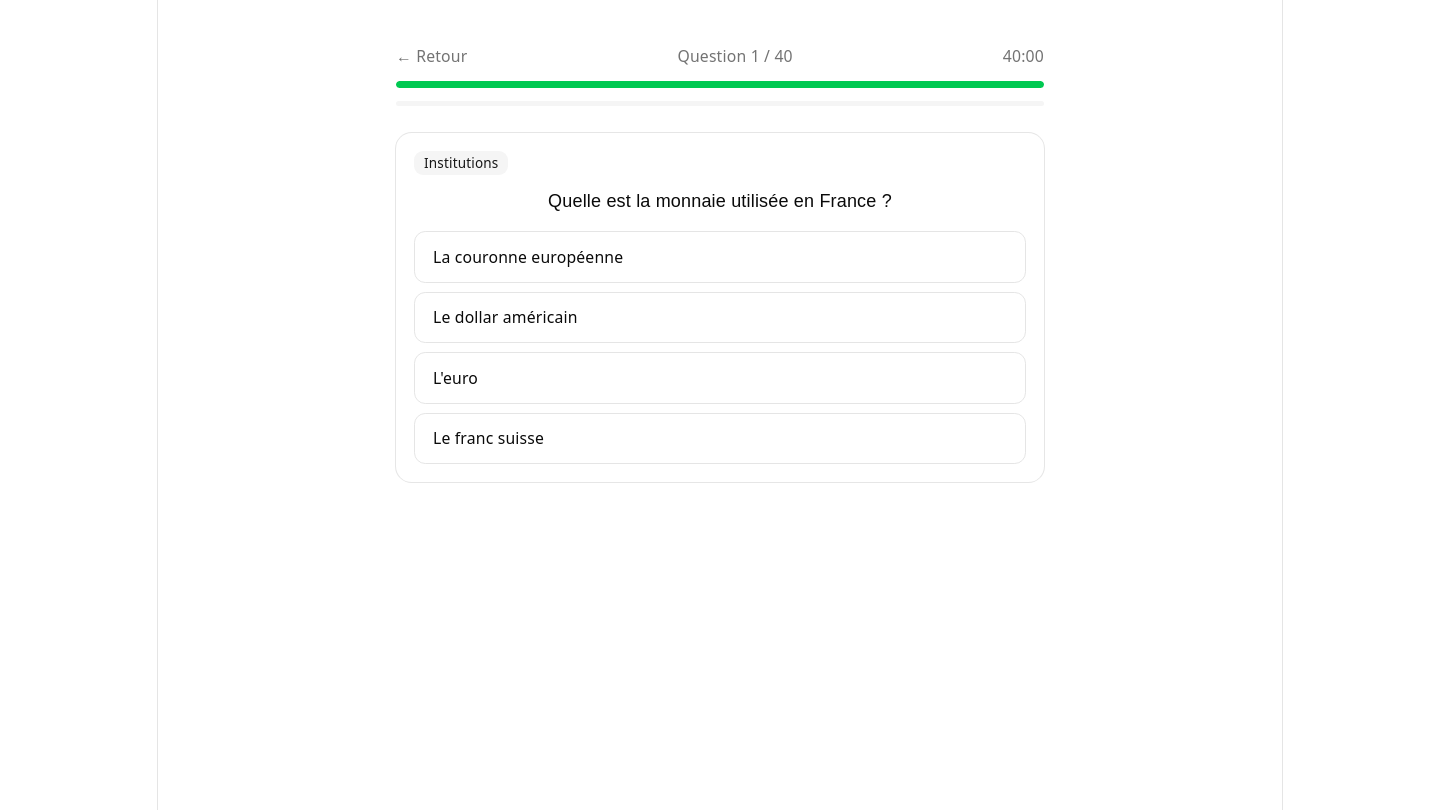
Scenario: Examen › le bouton Valider apparaît après sélection d'une réponse
Click the button "La couronne européenne". click: (528, 257)
box: [414,232,1026,283]
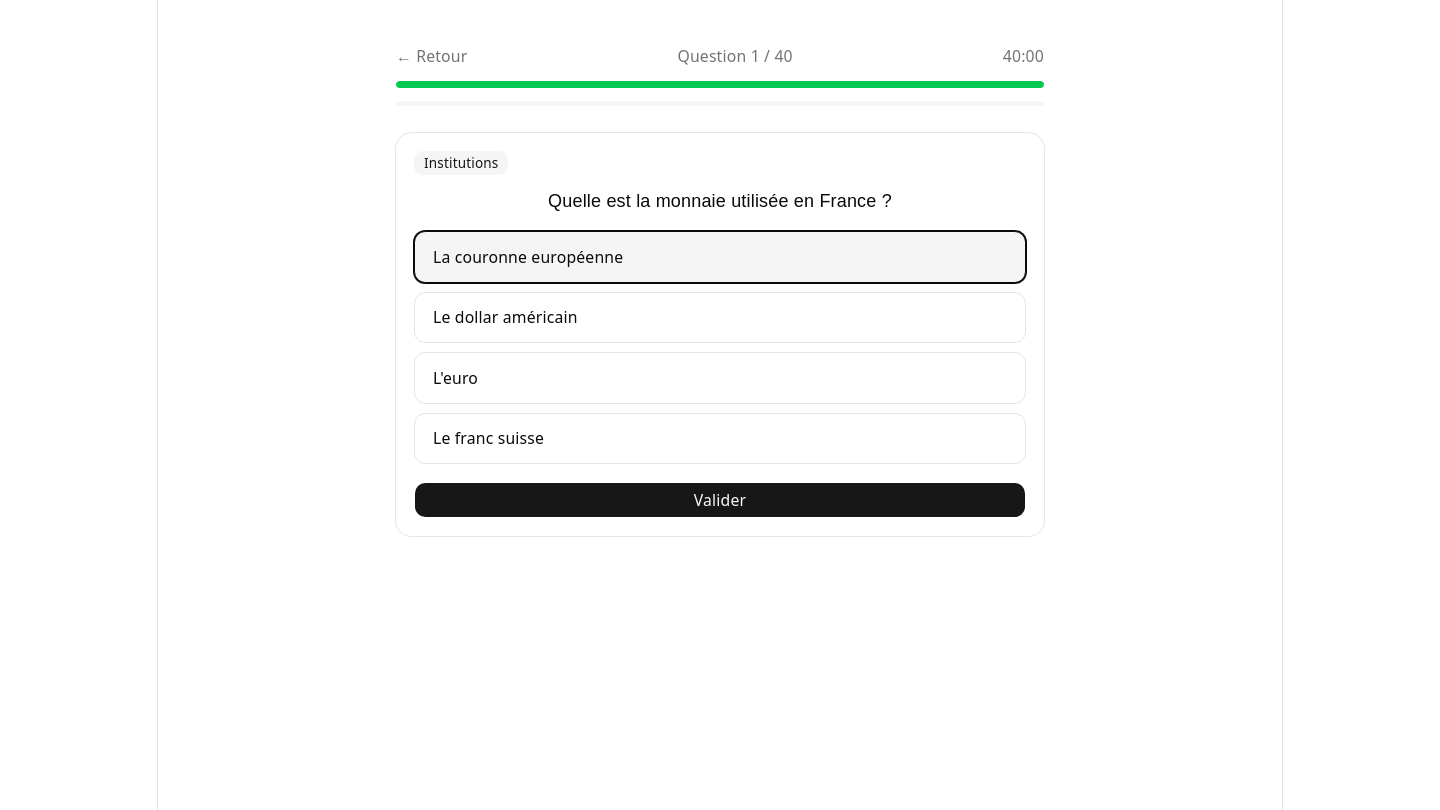
Expected: the button "Valider" is shown, [414,482,1026,518]
